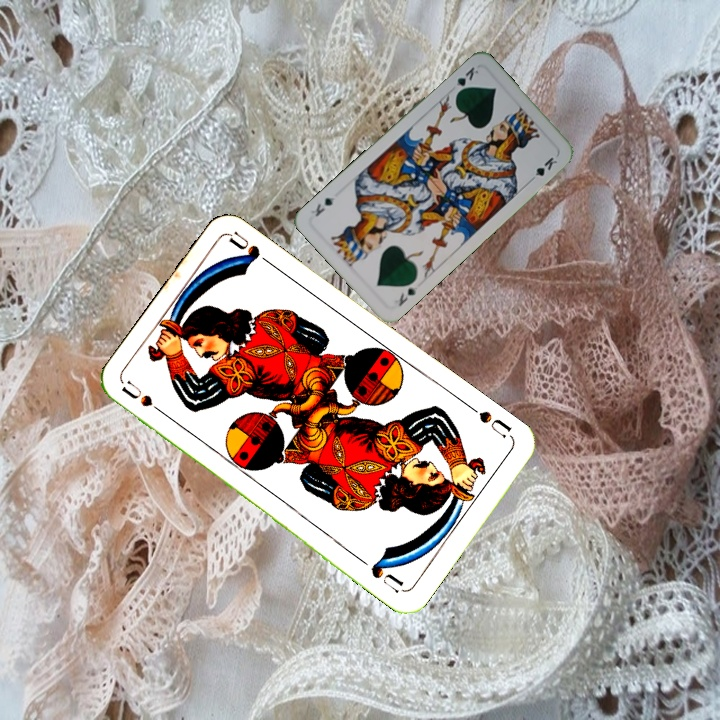GK: (451, 62, 481, 97), (394, 281, 420, 309)
SU: (117, 376, 172, 421), (474, 406, 514, 441)
